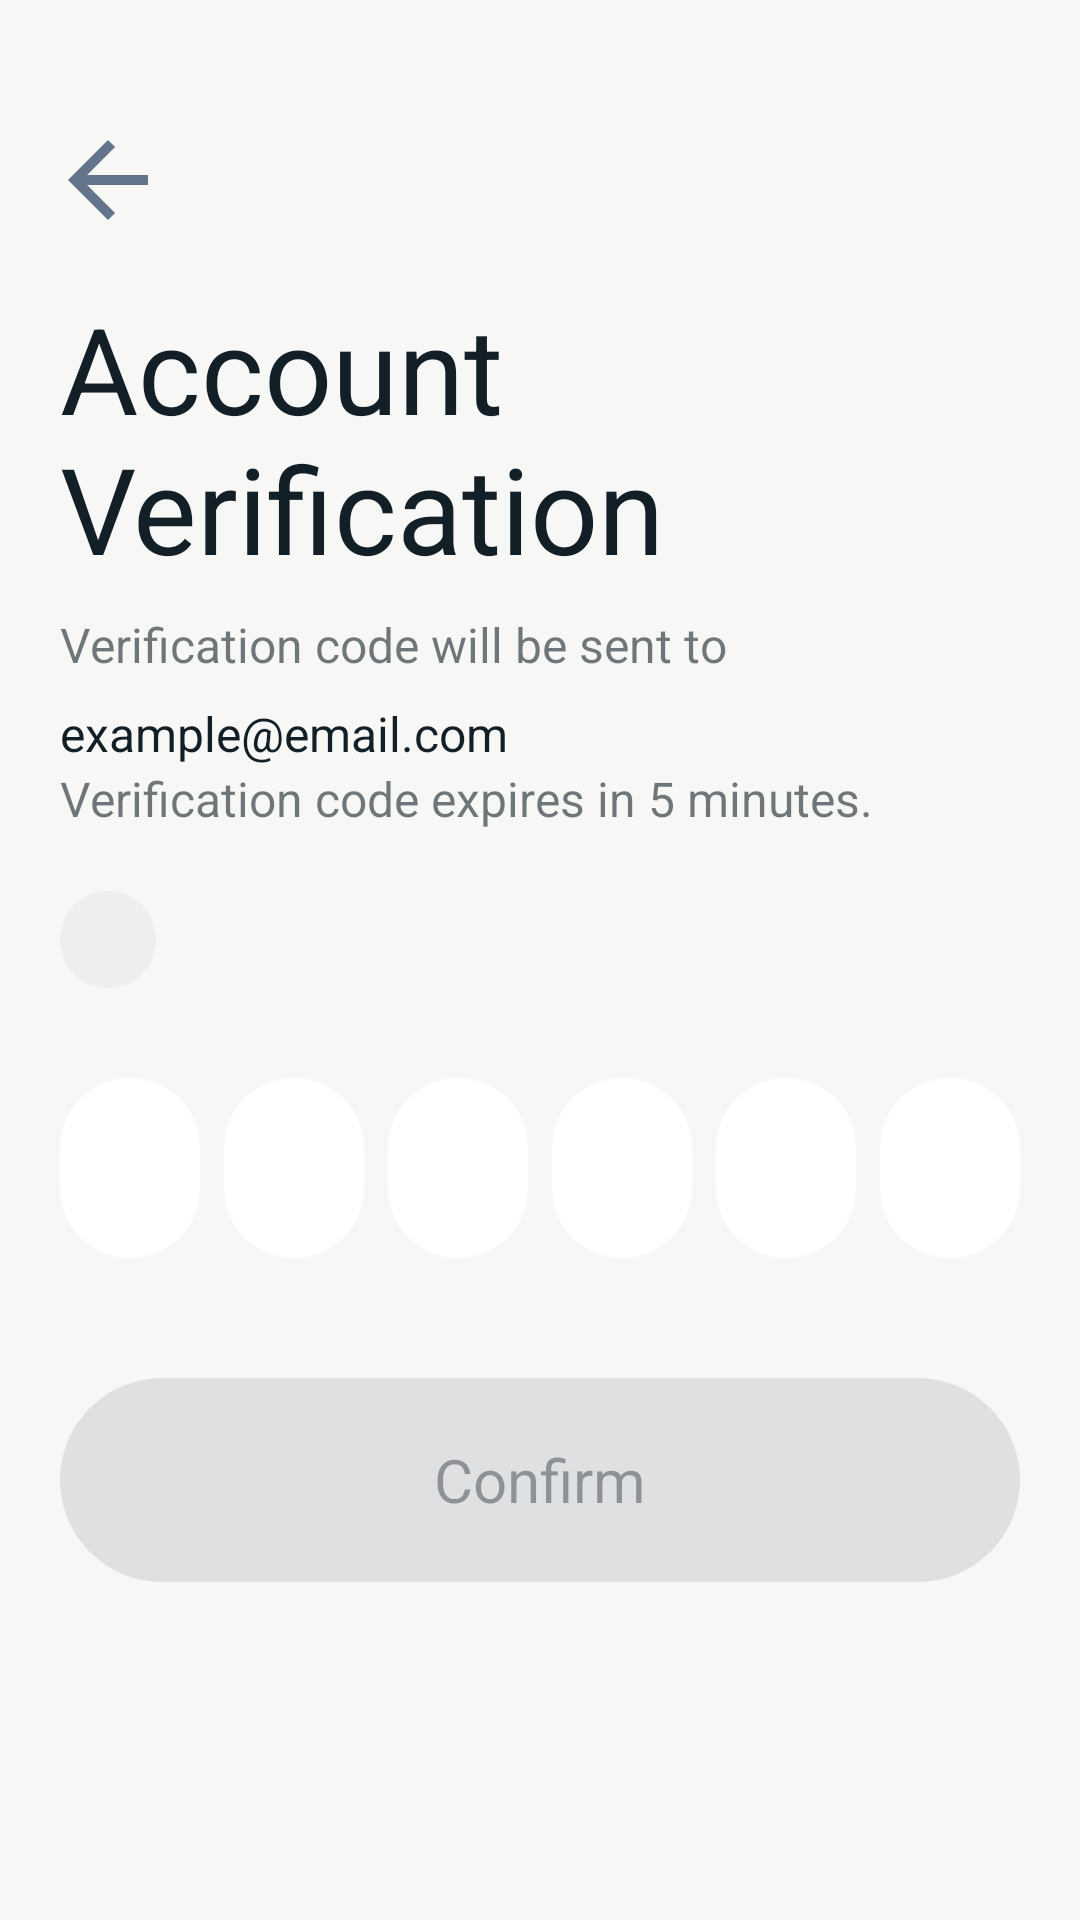

Where icons sit on this 1080px x 1920px app screen, as (x1, y1, x2, y2):
arrow back: (68, 140, 148, 220)
